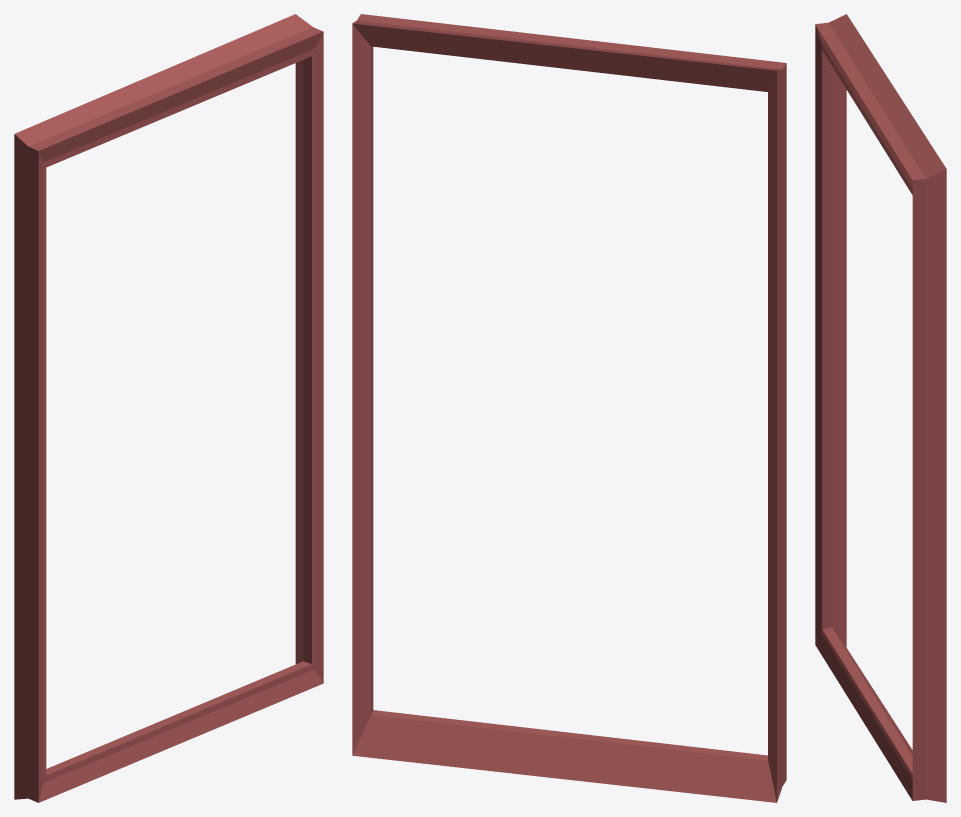
The model's file is walltrim.fbx.
3 renders of one model, left to right at view 1: azimuth 30°, elevation 25°; view 2: azimuth 150°, elevation 25°; view 3: azimuth 270°, elevation 25°, orthographic. The views are drawn at different scales.
Visible parts, largest first — view 1: Cube; view 2: Cube; view 3: Cube.
Part boxes in pixels (<box>): Cube: <box>14,14,323,802</box>; Cube: <box>352,14,786,802</box>; Cube: <box>815,14,946,802</box>.
Bounding box in the file's own units: 482 × 893 × 168.
